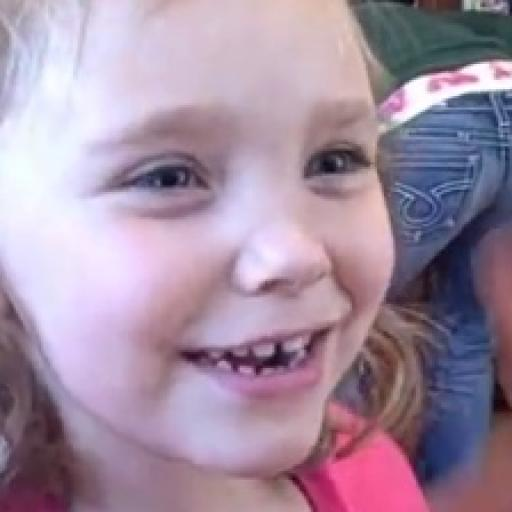Autism: (3, 5, 438, 512)
